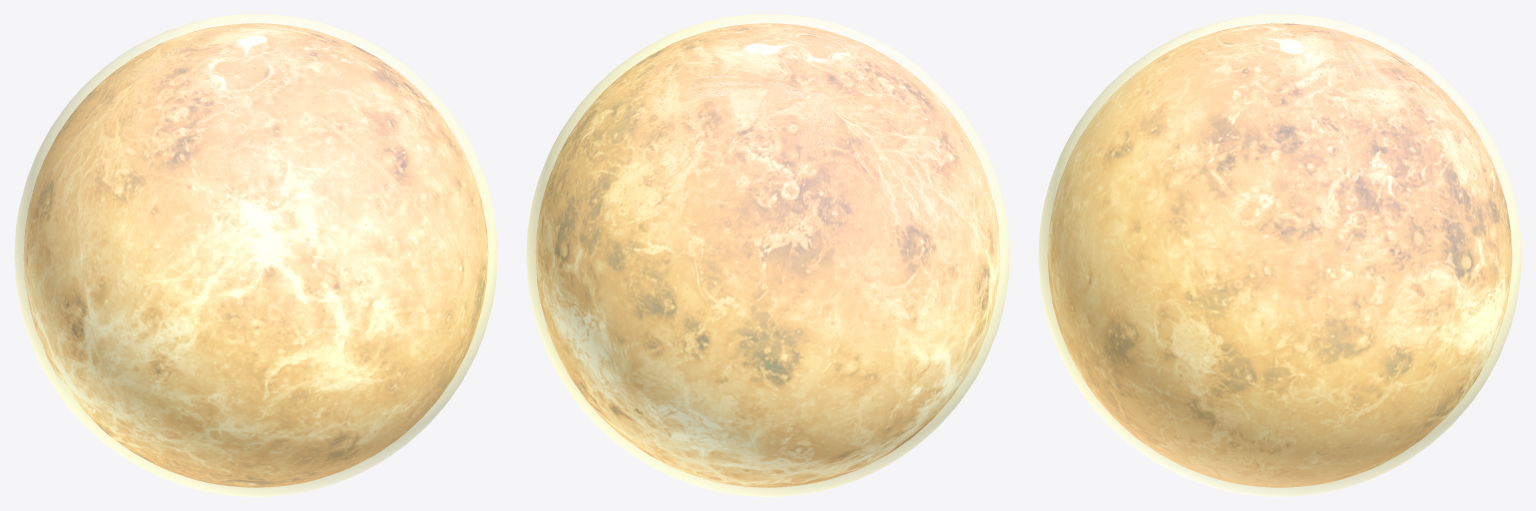
The model's file is venus.glb.
3 views of the same model, side by side, from view 1: azimuth 30°, elevation 25°; view 2: azimuth 150°, elevation 25°; view 3: azimuth 270°, elevation 25° (orthographic).
Visible parts, largest first — view 1: color, Ceres; view 2: color, Ceres; view 3: color, Ceres.
Part boxes in pixels (x1,y1,x2,y2): color: [14, 14, 497, 496]; Ceres: [24, 23, 487, 487]; color: [526, 14, 1009, 496]; Ceres: [536, 23, 999, 487]; color: [1038, 14, 1521, 496]; Ceres: [1048, 23, 1511, 487].
Size of the model in its own units: 2.08 by 2.08 by 2.08.
Materials: 2 (2 with a texture image).
